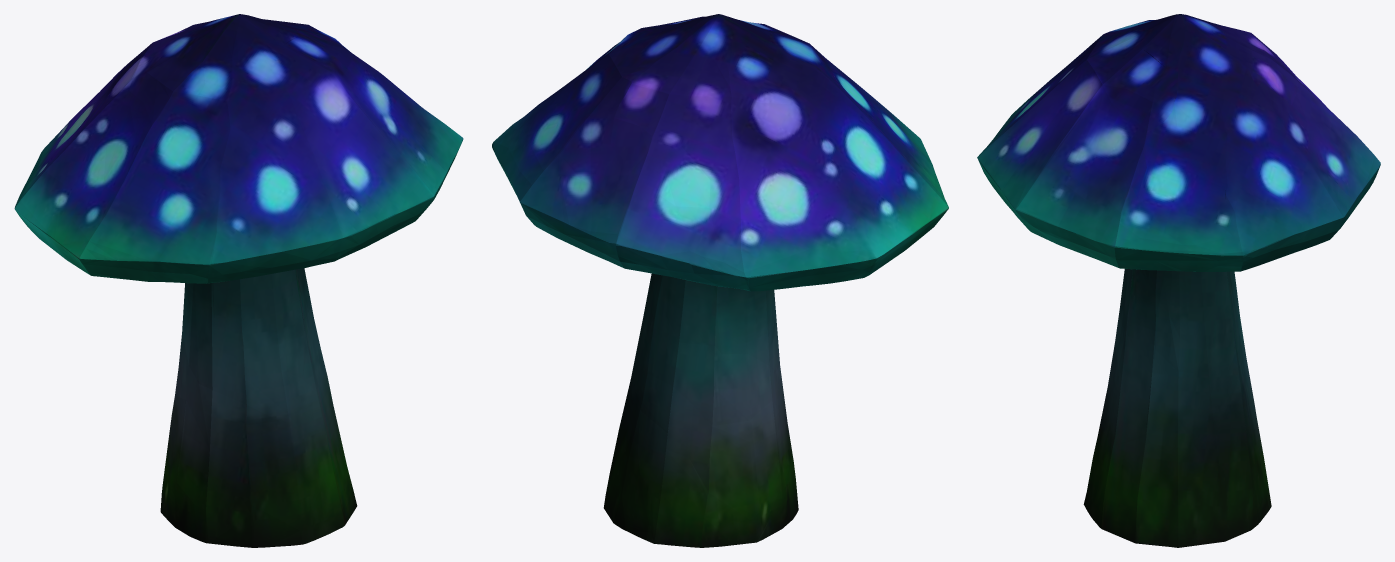
Rendered from d_mycelium_champignon.glb.
3 views of the same model, side by side, from view 1: azimuth 30°, elevation 25°; view 2: azimuth 150°, elevation 25°; view 3: azimuth 270°, elevation 25° (orthographic). The views are drawn at different scales.
Parts seen in each view (by area): view 1: geometry_0; view 2: geometry_0; view 3: geometry_0.
Boxes of the visible parts, x1,y1,x2,y2 form: geometry_0: (14,14,463,547); geometry_0: (492,14,948,547); geometry_0: (977,14,1380,547).
Bounding box in the file's own units: 0.8171 × 1 × 0.7569.
Materials: 1 (1 with a texture image).
